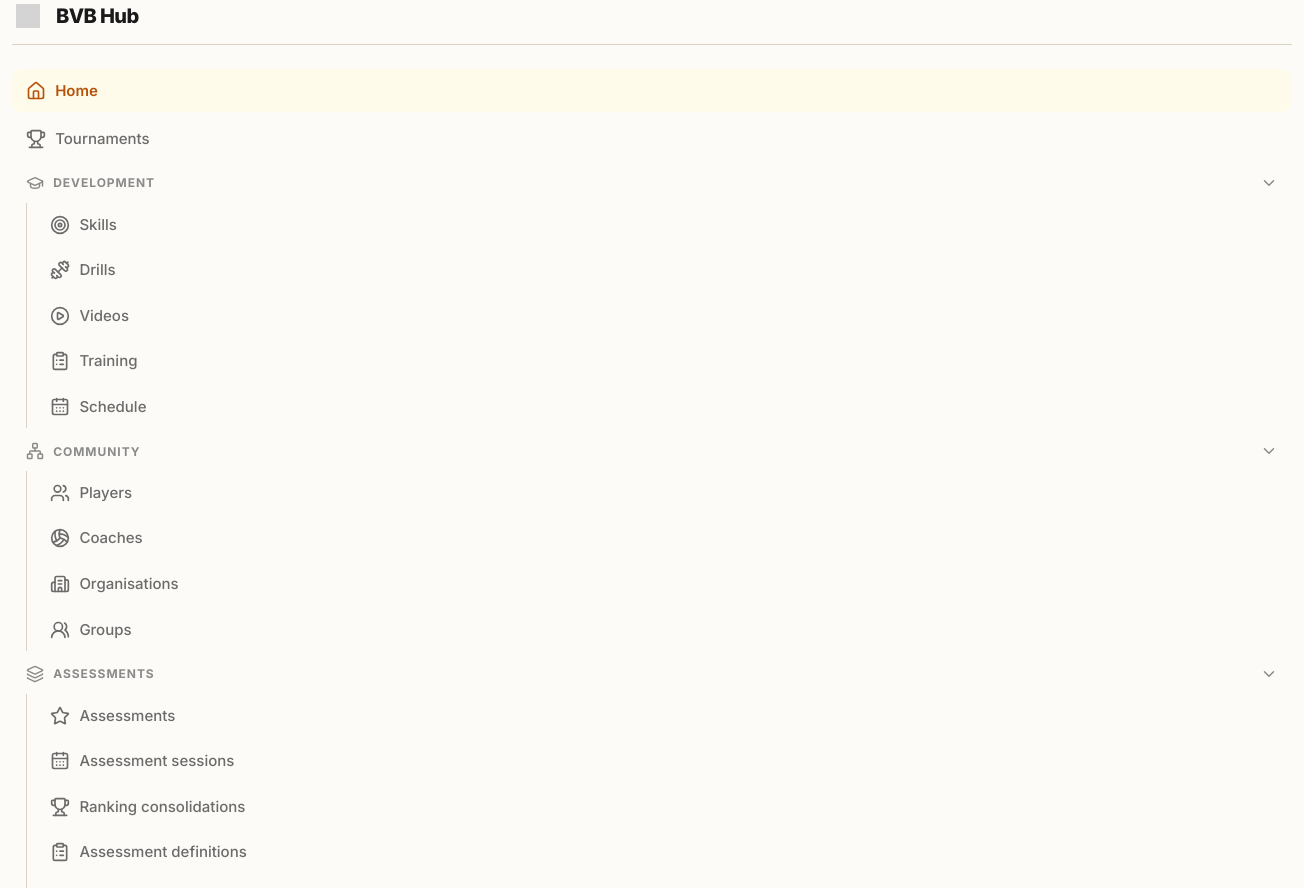
Test: Sidebar › the collapsible groups › expands the group again on a second click
This screenshot has width=1304, height=888.
Click the button "Development".
click(104, 183)  # box [12,165,1292,201]
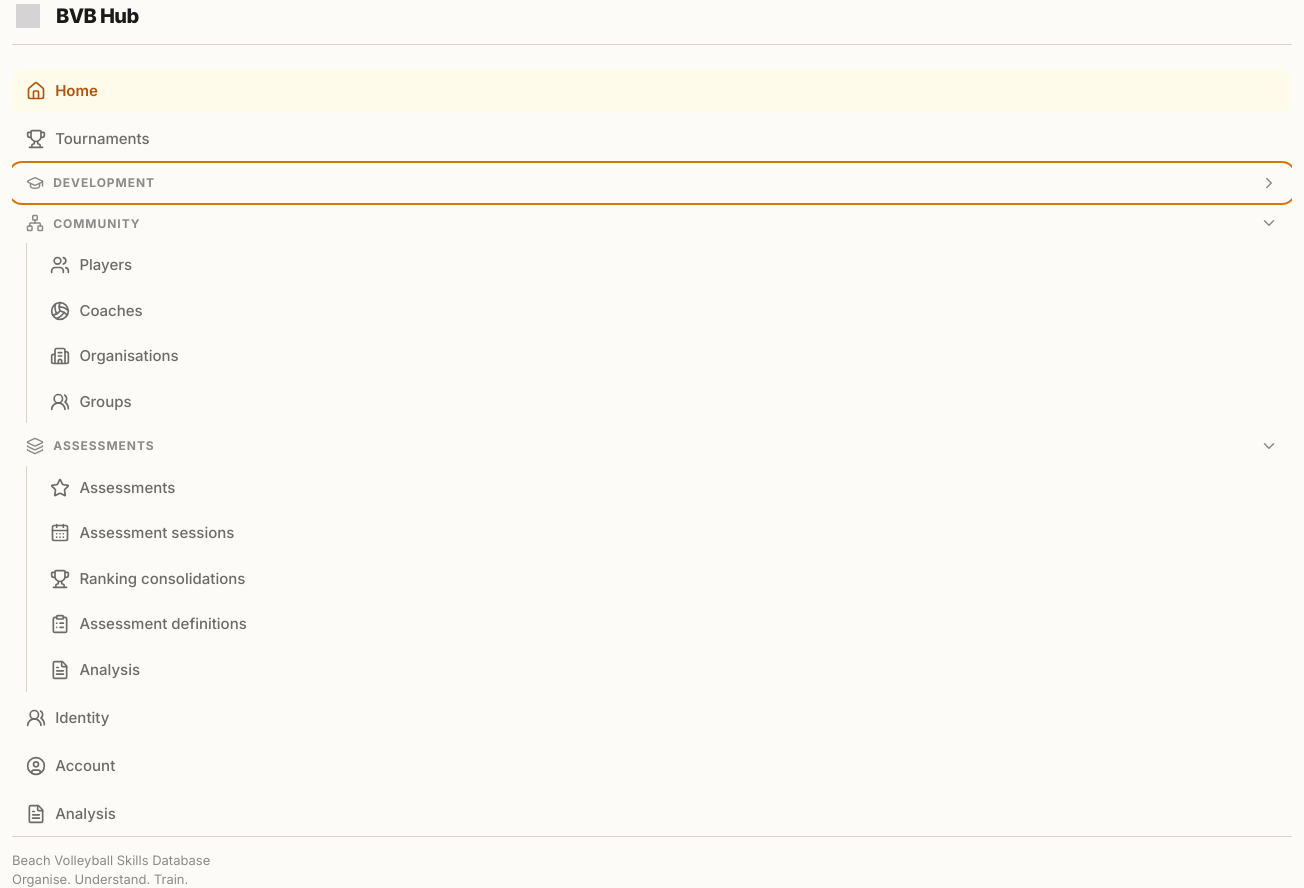
Click the button "Development".
click(104, 183)  # box [12,165,1292,201]
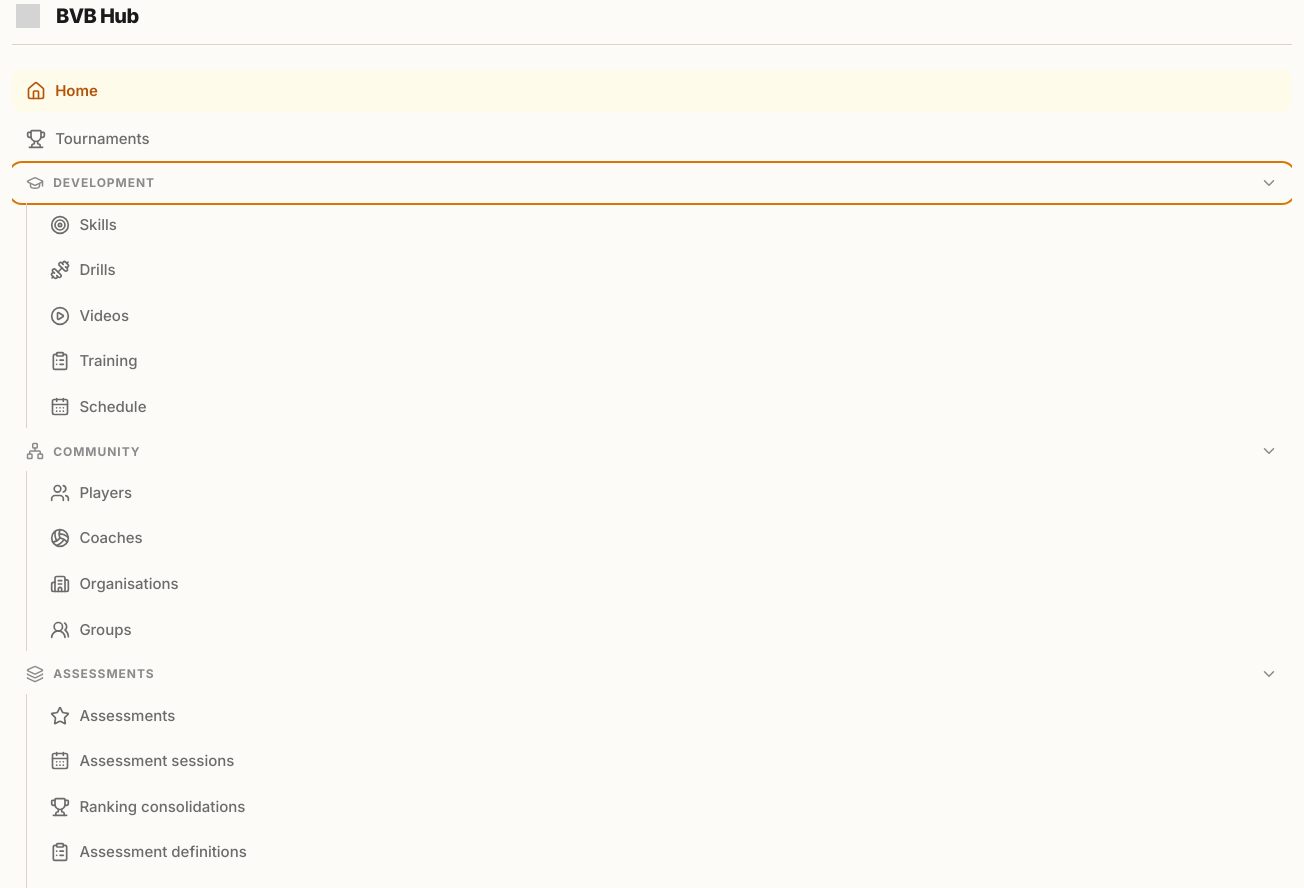
Expected: the link "Skills" is shown, [50,214,117,234]
